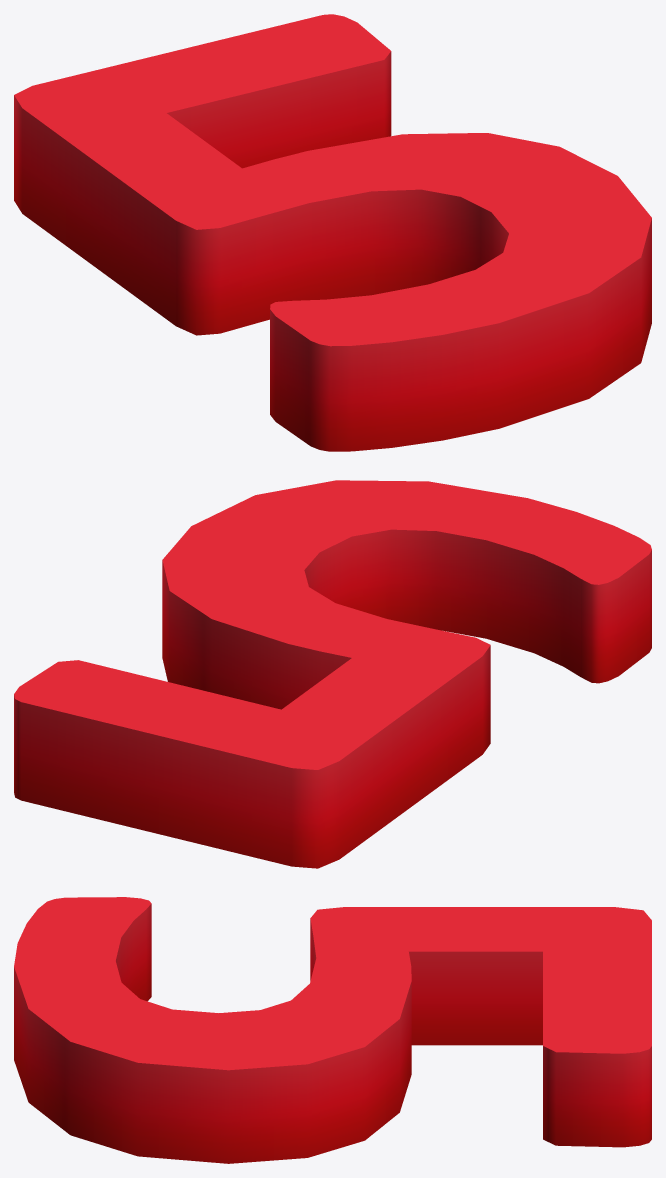
File: figure_5.fbx
3 renders of one model, top to bottom at view 1: azimuth 30°, elevation 25°; view 2: azimuth 150°, elevation 25°; view 3: azimuth 270°, elevation 25°, orthographic. The views are drawn at different scales.
Parts seen in each view (by area): view 1: figure_5; view 2: figure_5; view 3: figure_5.
Boxes of the visible parts, x1=… form: figure_5: x1=14, y1=14, x2=651, y2=451; figure_5: x1=14, y1=480, x2=651, y2=868; figure_5: x1=14, y1=897, x2=651, y2=1163.
Bounding box in the file's own units: 14.88 × 3.75 × 23.16.
